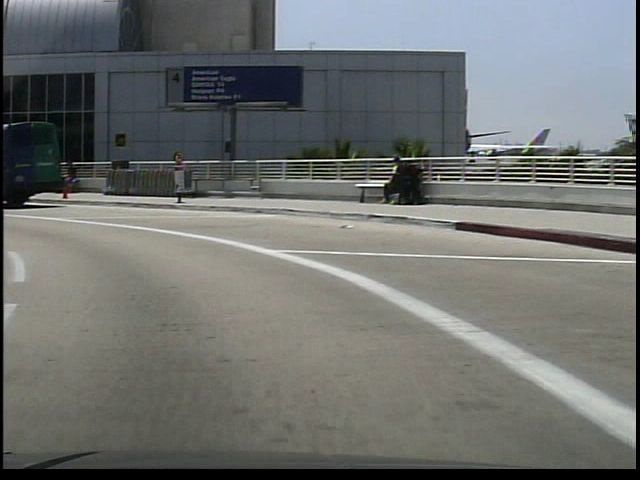person: (61, 159, 80, 197)
